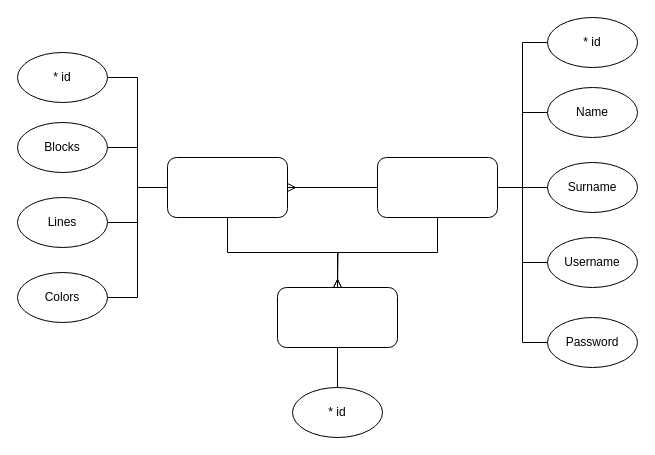
Some shapes in this 655 by 455 pixel diagram are drawn without their labels. Each missing label, with the centre of its shape:
"Diagram" goes at (227,187).
"Session" goes at (337,317).
"User" goes at (437,187).
